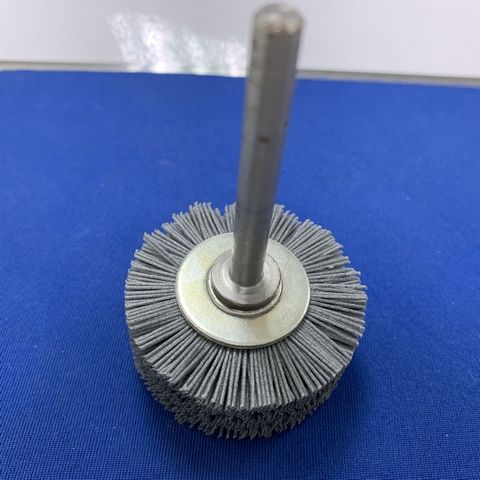Wheel Brush: (120, 9, 368, 433), (88, 177, 391, 447), (128, 51, 336, 440)
